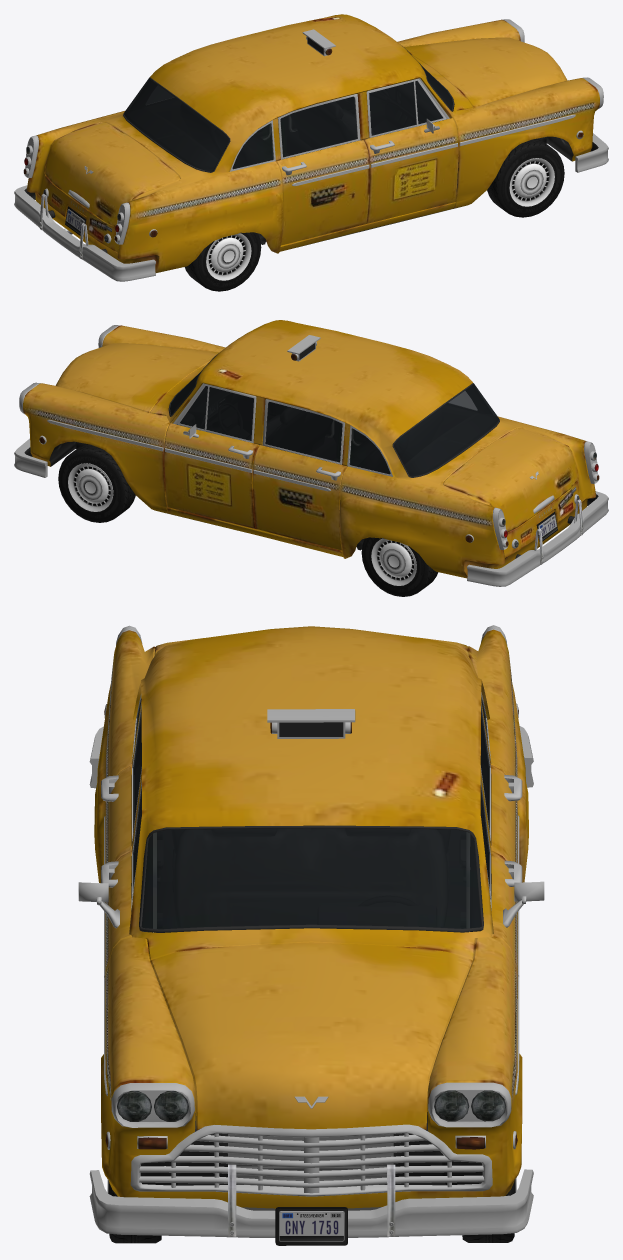
The model's file is taxi.glb.
3 renders of one model, top to bottom at view 1: azimuth 30°, elevation 25°; view 2: azimuth 150°, elevation 25°; view 3: azimuth 270°, elevation 25°, orthographic. The views are drawn at different scales.
Visible parts, largest first — view 1: Canyon75_Body_Canyon75_Bodymat_0, Canyon75_Interior_UCB_Interiors_2_0, Canyon75_Trunk_door_Canyon75_Bodymat_0, Canyon75_Hood_Canyon75_Bodymat_0, Canyon75_Bottom_UCB_BOTTOM_0, Canyon75_Rear_windows_UCB_Lights_and_Glass_Transperent_0, Canyon75_WheelStock_FR_RB1c_Tire_1k_0, Canyon75_Bodyglass_UCB_Lights_and_Glass_Transperent_0, Canyon75_Bumper_rear_UCB_BOTTOM_0, Canyon75_WheelStock_RR_RB1c_Tire_1k_0, Canyon75_Glass_Passenger_UCB_Lights_and_Glass_Transperent_0, Canyon75_Bumper_front_UCB_BOTTOM_0 (+1 smaller); view 2: Canyon75_Body_Canyon75_Bodymat_0, Canyon75_Interior_UCB_Interiors_2_0, Canyon75_Trunk_door_Canyon75_Bodymat_0, Canyon75_Hood_Canyon75_Bodymat_0, Canyon75_Bottom_UCB_BOTTOM_0, Canyon75_Rear_windows_UCB_Lights_and_Glass_Transperent_0, Canyon75_WheelStock_FL_RB1c_Tire_1k_0, Canyon75_Bodyglass_UCB_Lights_and_Glass_Transperent_0, Canyon75_Bumper_rear_UCB_BOTTOM_0, Canyon75_WheelStock_RL_RB1c_Tire_1k_0, Canyon75_Glass_Driver_UCB_Lights_and_Glass_Transperent_0, Canyon75_Bumper_front_UCB_BOTTOM_0 (+1 smaller); view 3: Canyon75_Body_Canyon75_Bodymat_0, Canyon75_Hood_Canyon75_Bodymat_0, Canyon75_Bottom_UCB_BOTTOM_0, Canyon75_Interior_UCB_Interiors_2_0, Canyon75_Windshield_UCB_Lights_and_Glass_Transperent_0, Canyon75_Bumper_front_UCB_BOTTOM_0, Canyon75_Headlights_UCB_Lights_and_Glass_0, Canyon75_Taxi_Beacon_UCB_BOTTOM_0, Canyon75_Numberplate_Front_Numberplates_Misk_U_0, Canyon75_Bodyglass_UCB_Lights_and_Glass_Transperent_0, Canyon75_Bumper_rear_UCB_BOTTOM_0.
Part boxes in pixels (bbox=[...]): Canyon75_Body_Canyon75_Bodymat_0: bbox=[26, 14, 599, 272]; Canyon75_Interior_UCB_Interiors_2_0: bbox=[124, 71, 458, 180]; Canyon75_Trunk_door_Canyon75_Bodymat_0: bbox=[45, 122, 179, 226]; Canyon75_Hood_Canyon75_Bodymat_0: bbox=[404, 37, 567, 107]; Canyon75_Bottom_UCB_BOTTOM_0: bbox=[23, 19, 603, 247]; Canyon75_Rear_windows_UCB_Lights_and_Glass_Transperent_0: bbox=[124, 78, 273, 171]; Canyon75_WheelStock_FR_RB1c_Tire_1k_0: bbox=[487, 138, 564, 217]; Canyon75_Bodyglass_UCB_Lights_and_Glass_Transperent_0: bbox=[280, 81, 443, 157]; Canyon75_Bumper_rear_UCB_BOTTOM_0: bbox=[14, 185, 155, 281]; Canyon75_WheelStock_RR_RB1c_Tire_1k_0: bbox=[184, 232, 261, 291]; Canyon75_Glass_Passenger_UCB_Lights_and_Glass_Transperent_0: bbox=[369, 81, 416, 135]; Canyon75_Bumper_front_UCB_BOTTOM_0: bbox=[575, 133, 608, 172]; Canyon75_Body_Canyon75_Bodymat_0: bbox=[23, 320, 596, 578]; Canyon75_Interior_UCB_Interiors_2_0: bbox=[169, 376, 498, 475]; Canyon75_Trunk_door_Canyon75_Bodymat_0: bbox=[443, 428, 577, 531]; Canyon75_Hood_Canyon75_Bodymat_0: bbox=[55, 343, 218, 412]; Canyon75_Bottom_UCB_BOTTOM_0: bbox=[19, 325, 599, 549]; Canyon75_Rear_windows_UCB_Lights_and_Glass_Transperent_0: bbox=[349, 384, 498, 476]; Canyon75_WheelStock_FL_RB1c_Tire_1k_0: bbox=[58, 444, 135, 522]; Canyon75_Bodyglass_UCB_Lights_and_Glass_Transperent_0: bbox=[179, 386, 342, 462]; Canyon75_Bumper_rear_UCB_BOTTOM_0: bbox=[467, 491, 608, 586]; Canyon75_WheelStock_RL_RB1c_Tire_1k_0: bbox=[361, 537, 438, 596]; Canyon75_Glass_Driver_UCB_Lights_and_Glass_Transperent_0: bbox=[206, 387, 253, 440]; Canyon75_Bumper_front_UCB_BOTTOM_0: bbox=[14, 438, 47, 477]; Canyon75_Body_Canyon75_Bodymat_0: bbox=[94, 626, 528, 1208]; Canyon75_Hood_Canyon75_Bodymat_0: bbox=[150, 942, 472, 1129]; Canyon75_Bottom_UCB_BOTTOM_0: bbox=[78, 625, 544, 1210]; Canyon75_Interior_UCB_Interiors_2_0: bbox=[134, 720, 488, 932]; Canyon75_Windshield_UCB_Lights_and_Glass_Transperent_0: bbox=[141, 828, 481, 929]; Canyon75_Bumper_front_UCB_BOTTOM_0: bbox=[89, 1164, 533, 1245]; Canyon75_Headlights_UCB_Lights_and_Glass_0: bbox=[117, 1090, 505, 1121]; Canyon75_Taxi_Beacon_UCB_BOTTOM_0: bbox=[267, 709, 355, 738]; Canyon75_Numberplate_Front_Numberplates_Misk_U_0: bbox=[279, 1211, 344, 1241]; Canyon75_Bodyglass_UCB_Lights_and_Glass_Transperent_0: bbox=[133, 708, 490, 898]; Canyon75_Bumper_rear_UCB_BOTTOM_0: bbox=[89, 726, 533, 788].
Size of the model in its own units: 5.31 by 1.83 by 2.12.
Materials: 8 (8 with a texture image).
